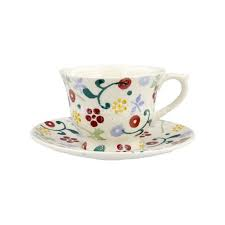cup: (25, 61, 203, 164)
